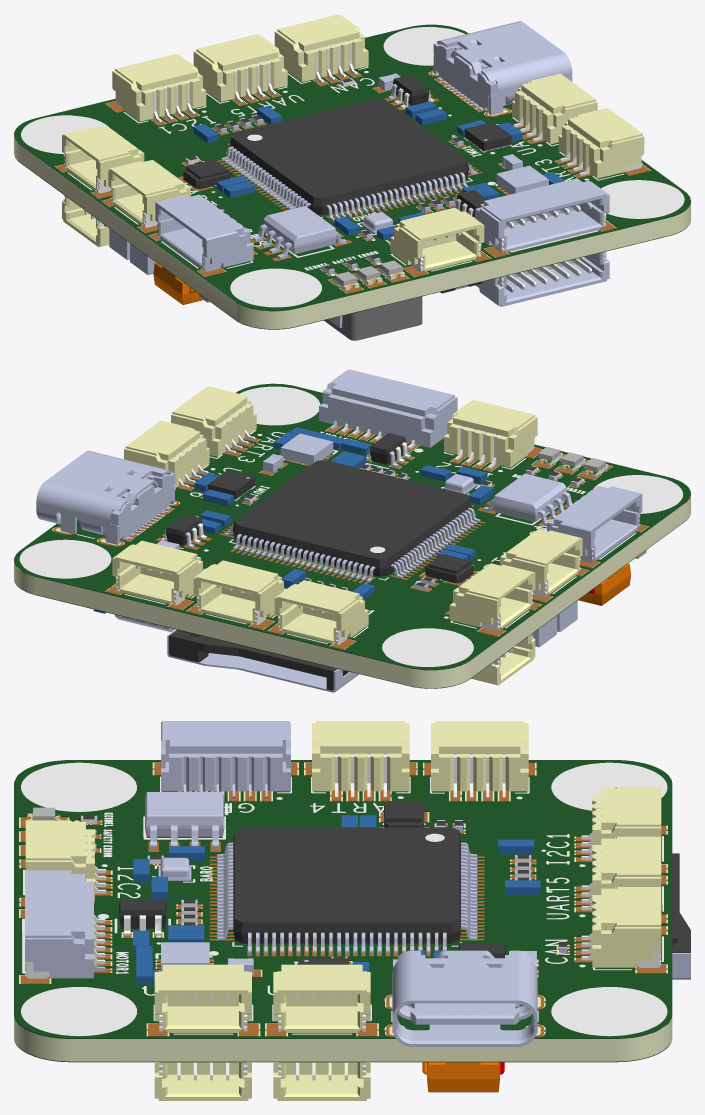
Rendered from fmu-rev-b.glb.
3 views of the same model, one above another, from view 1: azimuth 30°, elevation 25°; view 2: azimuth 150°, elevation 25°; view 3: azimuth 270°, elevation 25° (orthographic). The views are drawn at different scales.
Parts seen in each view (by area): view 1: STM32F205VGT6V, SM04B-SRSS-TB(LF)(SN), SOLDERMASK_TOP_Model_1_Inst, DIELECTRIC_Model_1_Inst, TOP_Model_211_Inst, PlaceBound_C38, FM25CL64B-G, IHLP2525CZER1R0M01, 025002-01643-a.testprt, 5988130107F; view 2: STM32F205VGT6V, SM04B-SRSS-TB(LF)(SN), SOLDERMASK_TOP_Model_1_Inst, DIELECTRIC_Model_1_Inst, TOP_Model_211_Inst, PlaceBound_C38, FM25CL64B-G, 025002-01643-a.testprt, 5988130107F; view 3: STM32F205VGT6V, SOLDERMASK_TOP_Model_1_Inst, SM04B-SRSS-TB(LF)(SN), DIELECTRIC_Model_1_Inst, TOP_Model_211_Inst, PlaceBound_C38, FM25CL64B-G, 025002-01643-a.testprt.
Part boxes in pixels (bbox=[...]): STM32F205VGT6V: bbox=[21, 21, 684, 327]; SM04B-SRSS-TB(LF)(SN): bbox=[62, 14, 644, 271]; SOLDERMASK_TOP_Model_1_Inst: bbox=[14, 24, 690, 329]; DIELECTRIC_Model_1_Inst: bbox=[14, 70, 690, 328]; TOP_Model_211_Inst: bbox=[56, 69, 649, 293]; PlaceBound_C38: bbox=[193, 101, 564, 240]; FM25CL64B-G: bbox=[253, 206, 346, 259]; IHLP2525CZER1R0M01: bbox=[324, 296, 422, 340]; 025002-01643-a.testprt: bbox=[153, 262, 203, 304]; 5988130107F: bbox=[199, 260, 402, 302]; STM32F205VGT6V: bbox=[19, 369, 683, 692]; SM04B-SRSS-TB(LF)(SN): bbox=[112, 386, 582, 685]; SOLDERMASK_TOP_Model_1_Inst: bbox=[14, 383, 690, 688]; DIELECTRIC_Model_1_Inst: bbox=[14, 425, 690, 688]; TOP_Model_211_Inst: bbox=[53, 425, 648, 649]; PlaceBound_C38: bbox=[93, 427, 493, 613]; FM25CL64B-G: bbox=[483, 473, 573, 526]; 025002-01643-a.testprt: bbox=[578, 563, 630, 605]; 5988130107F: bbox=[536, 447, 646, 558]; STM32F205VGT6V: bbox=[21, 721, 690, 1080]; SOLDERMASK_TOP_Model_1_Inst: bbox=[14, 760, 672, 1062]; SM04B-SRSS-TB(LF)(SN): bbox=[25, 721, 661, 1100]; DIELECTRIC_Model_1_Inst: bbox=[14, 762, 672, 1061]; TOP_Model_211_Inst: bbox=[19, 762, 667, 1037]; PlaceBound_C38: bbox=[133, 815, 540, 985]; FM25CL64B-G: bbox=[145, 792, 224, 848]; 025002-01643-a.testprt: bbox=[422, 1062, 504, 1092].
Size of the model in its own units: 41.79 by 7.78 by 41.65.
